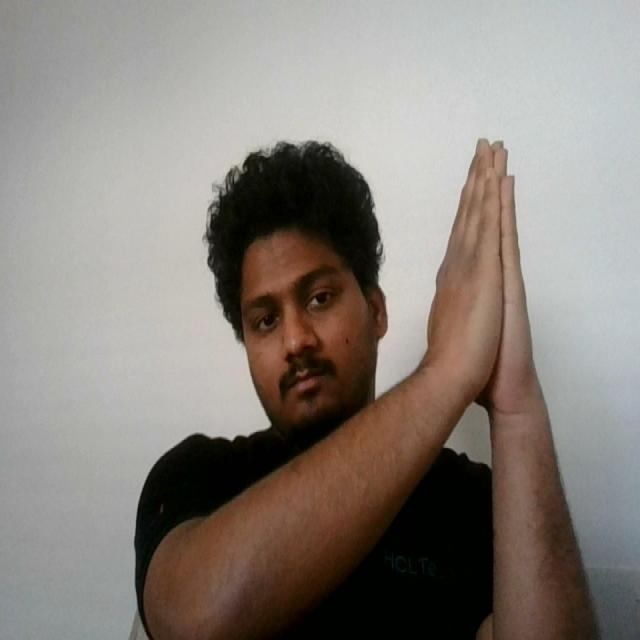Thanks: (418, 126, 546, 415)
